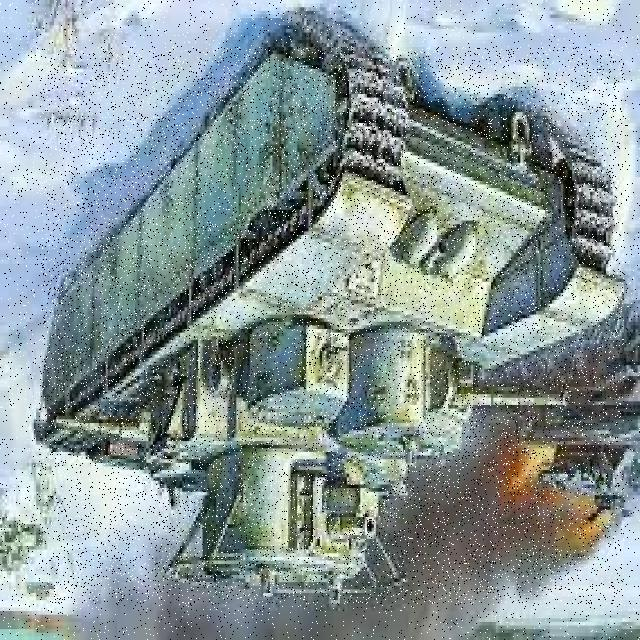MIL_MBT: (39, 47, 623, 604)
